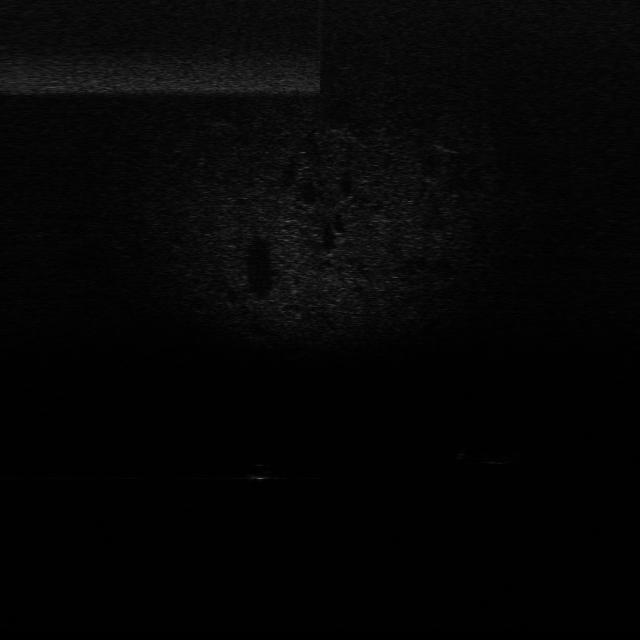ball: (246, 460, 280, 483)
human body: (459, 444, 538, 469)
